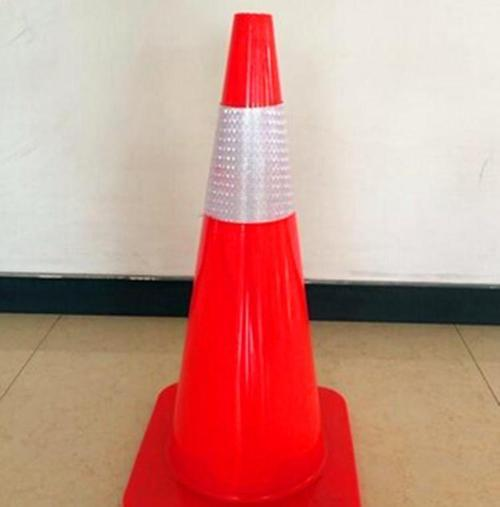sign: (118, 6, 378, 507)
